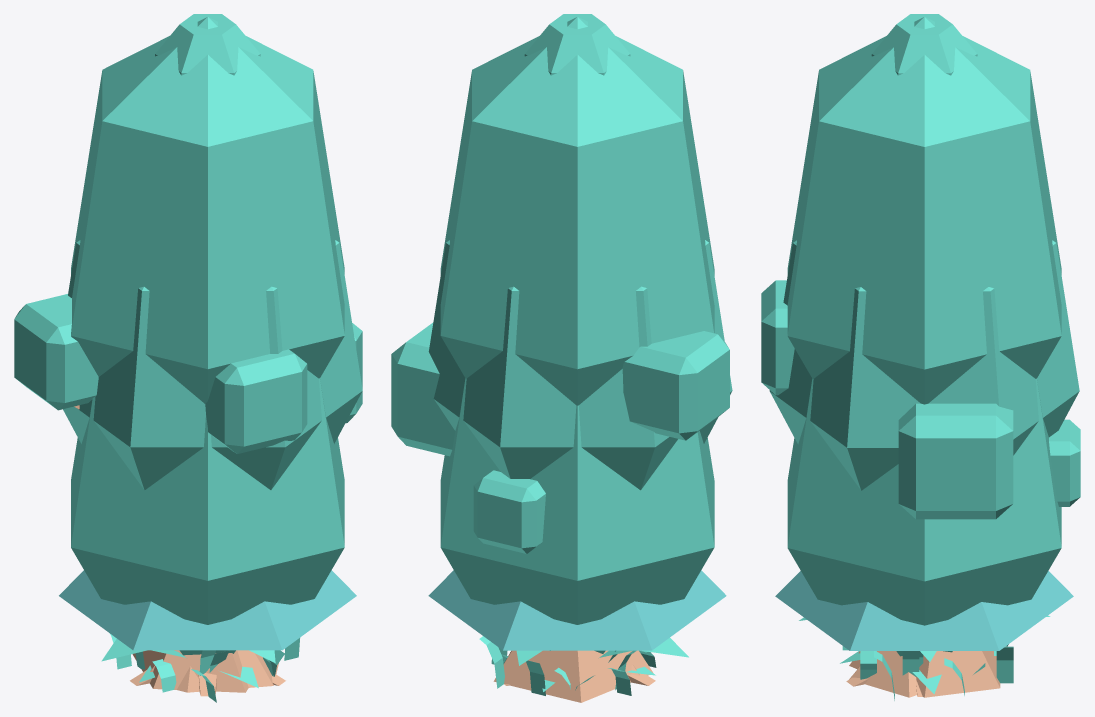
Rendered from nature.glb.
3 renders of one model, left to right at view 1: azimuth 30°, elevation 25°; view 2: azimuth 150°, elevation 25°; view 3: azimuth 270°, elevation 25°, orthographic.
Visible parts, largest first — view 1: tree_default, tree_fat, tree_oak, tree_detailed, tree_pineRoundA, tree_tall, rock_smallA, grass_large, rock_smallC, plant_bushDetailed; view 2: tree_default, tree_fat, tree_oak, tree_detailed, tree_pineRoundA, rock_smallA, tree_tall, grass_large, plant_bushDetailed, grass; view 3: tree_default, tree_fat, tree_oak, tree_detailed, tree_pineRoundA, tree_tall, rock_smallA, grass_large, rock_smallC, plant_bushDetailed.
Part boxes in pixels (x1,y1,x2,y2): tree_default: [71, 17, 344, 403]; tree_fat: [71, 378, 344, 624]; tree_oak: [63, 240, 362, 696]; tree_detailed: [14, 294, 362, 453]; tree_pineRoundA: [59, 570, 356, 650]; tree_tall: [155, 14, 260, 75]; rock_smallA: [132, 650, 248, 692]; grass_large: [109, 633, 299, 702]; rock_smallC: [150, 650, 278, 692]; plant_bushDetailed: [101, 639, 275, 688]; tree_default: [440, 16, 714, 405]; tree_fat: [440, 378, 714, 624]; tree_oak: [428, 240, 732, 685]; tree_detailed: [391, 322, 729, 553]; tree_pineRoundA: [428, 570, 726, 650]; rock_smallA: [493, 650, 652, 702]; tree_tall: [524, 14, 630, 75]; grass_large: [479, 636, 656, 695]; plant_bushDetailed: [516, 638, 688, 691]; grass: [501, 650, 636, 695]; tree_default: [787, 16, 1061, 404]; tree_fat: [787, 378, 1061, 625]; tree_oak: [769, 240, 1079, 696]; tree_detailed: [761, 280, 1080, 519]; tree_pineRoundA: [775, 571, 1073, 650]; tree_tall: [871, 14, 977, 75]; rock_smallA: [849, 651, 1000, 697]; grass_large: [842, 646, 1013, 700]; rock_smallC: [849, 651, 916, 697]; plant_bushDetailed: [799, 615, 1050, 693].
Size of the model in its own units: 0.8471 by 1.71 by 0.7616.
